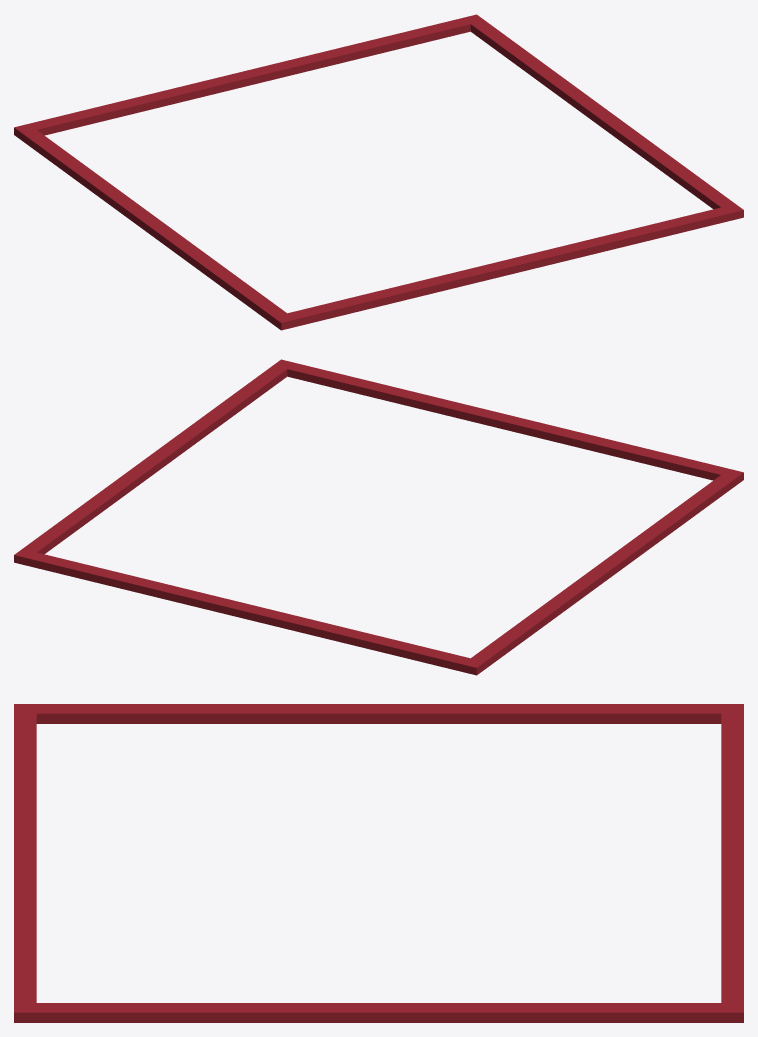
Rendered from towerSlice3.obj.
3 renders of one model, top to bottom at view 1: azimuth 30°, elevation 25°; view 2: azimuth 150°, elevation 25°; view 3: azimuth 270°, elevation 25°, orthographic. The views are drawn at different scales.
Bounding box in the file's own units: 6.4 × 0.1 × 6.4.
1 material, 1 textured.
